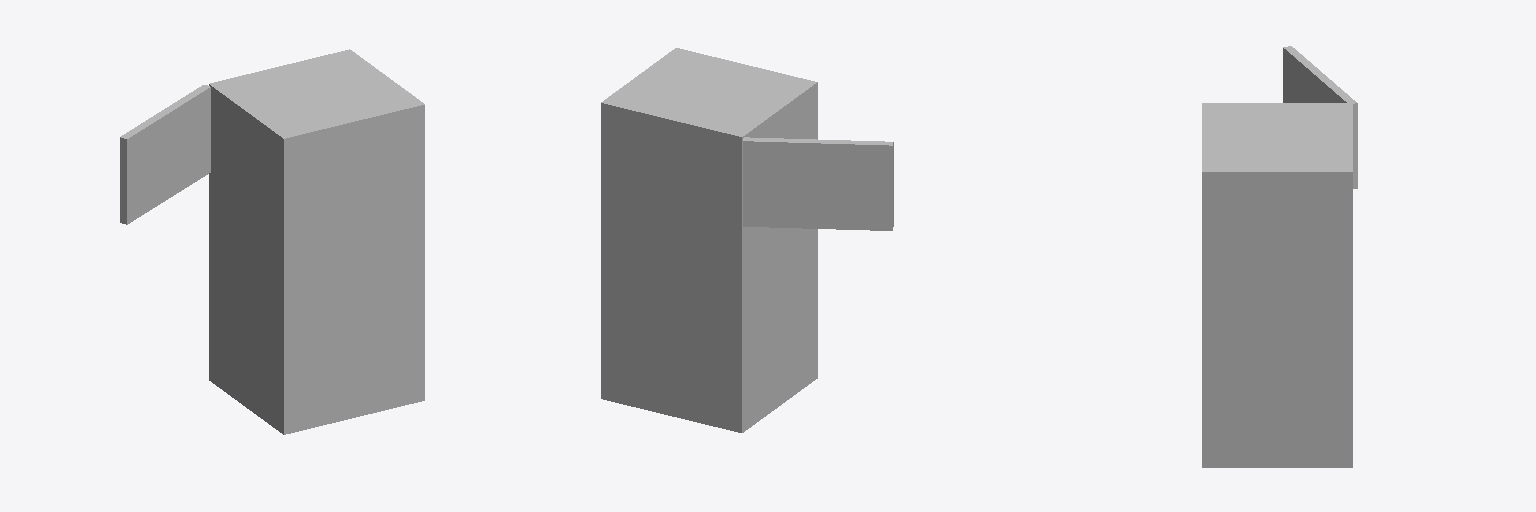
File: Refri.obj
3 renders of one model, left to right at view 1: azimuth 30°, elevation 25°; view 2: azimuth 150°, elevation 25°; view 3: azimuth 270°, elevation 25°, orthographic.
Parts seen in each view (by area): view 1: Refri.001_Cube.006, Cube_Cube.009; view 2: Refri.001_Cube.006, Cube_Cube.009; view 3: Refri.001_Cube.006, Cube_Cube.009.
Boxes of the visible parts, <box> form: Refri.001_Cube.006: <box>209,49,424,434</box>; Cube_Cube.009: <box>120,85,210,224</box>; Refri.001_Cube.006: <box>601,48,817,432</box>; Cube_Cube.009: <box>743,137,893,230</box>; Refri.001_Cube.006: <box>1202,103,1352,467</box>; Cube_Cube.009: <box>1283,46,1357,188</box>.
Size of the model in its own units: 3.32 by 3.6 by 1.71.